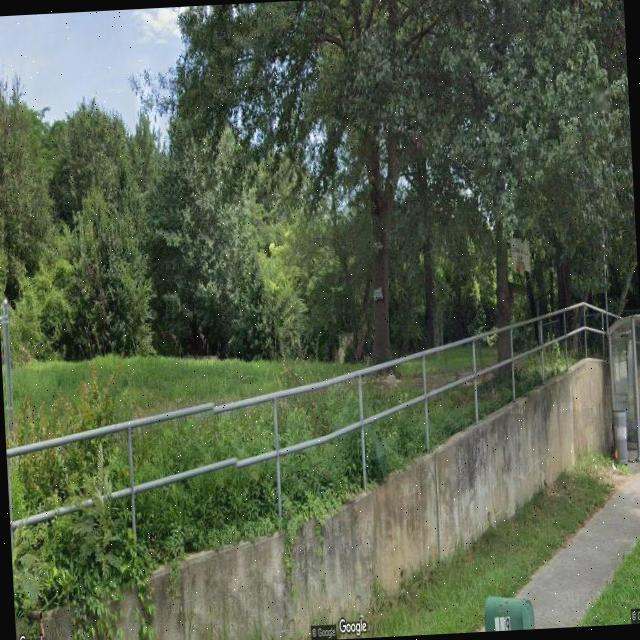seating: (633, 421, 640, 451)
shelter: (603, 312, 640, 471)
trash_can: (613, 408, 630, 467)
